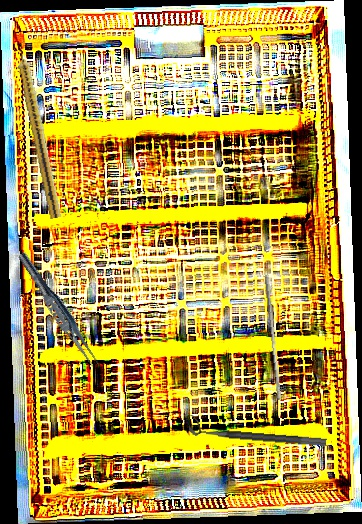Fixation Ring: (188, 415, 328, 447)
Handpiece: (12, 39, 66, 220)
Pusher: (259, 274, 286, 401)
Tissue Forceps: (12, 249, 105, 371)
